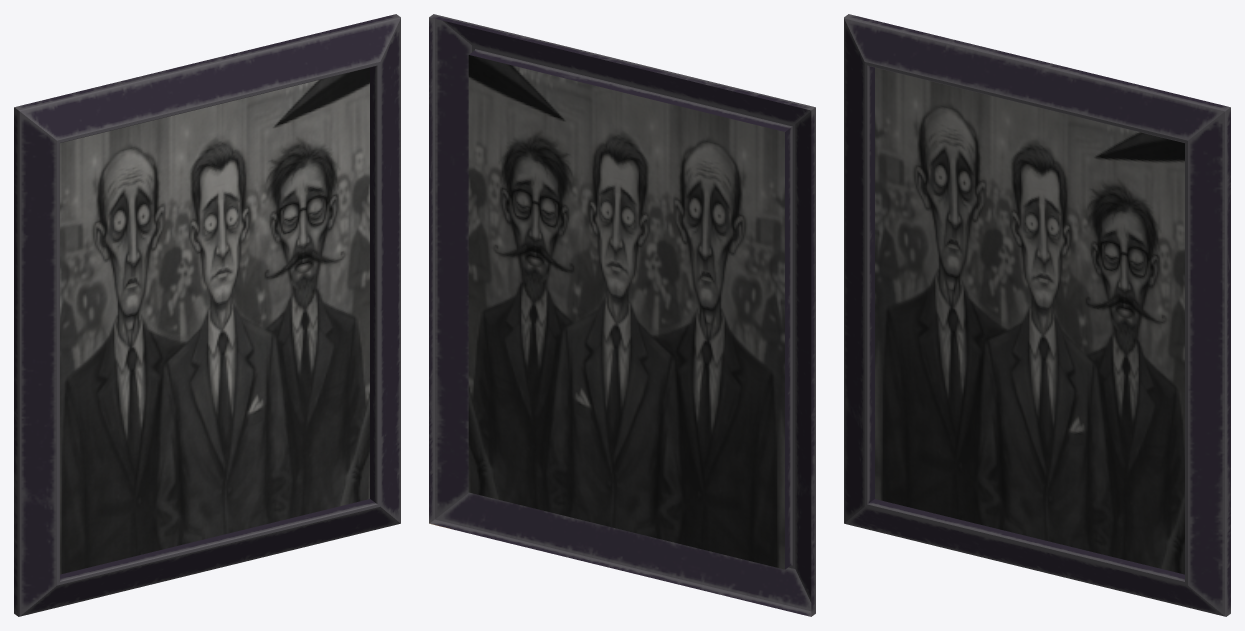
The model's file is SM_Cuadro_002.fbx.
3 renders of one model, left to right at view 1: azimuth 30°, elevation 25°; view 2: azimuth 150°, elevation 25°; view 3: azimuth 330°, elevation 25°, orthographic.
Parts seen in each view (by area): view 1: SM_Cuadro_002; view 2: SM_Cuadro_002; view 3: SM_Cuadro_002.
Part boxes in pixels (x1=…): SM_Cuadro_002: x1=14, y1=14, x2=400, y2=616; SM_Cuadro_002: x1=429, y1=14, x2=815, y2=616; SM_Cuadro_002: x1=844, y1=14, x2=1230, y2=616.
Bounding box in the file's own units: 84.88 × 107 × 5.18.
